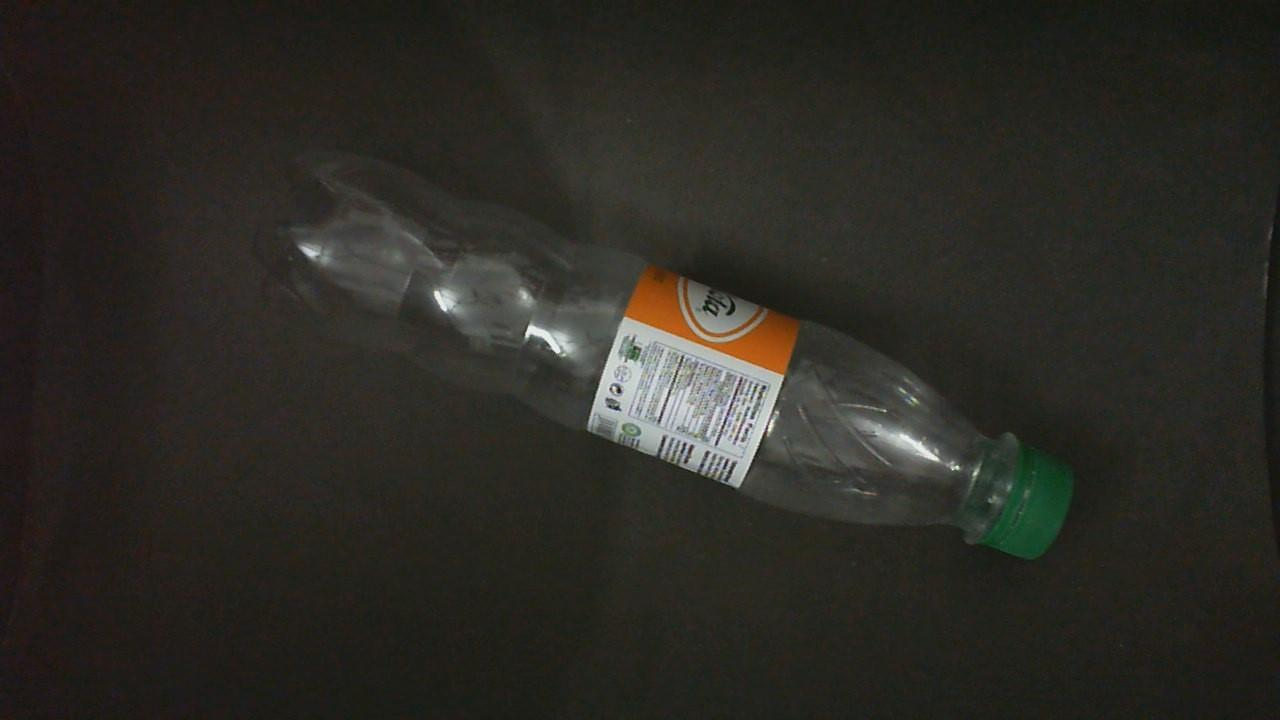Bottle: (273, 155, 1072, 558)
